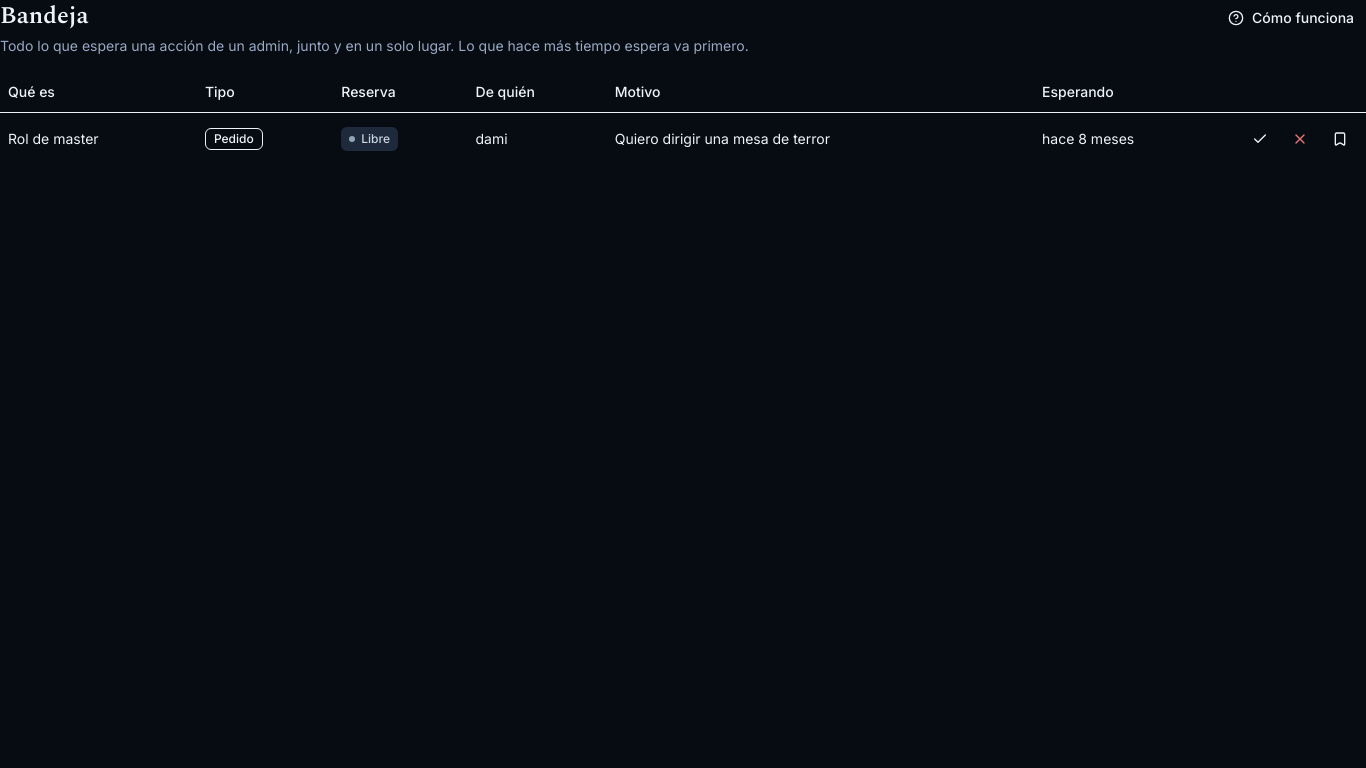
AdminQueuePage › explains the reservation from the screen itself
Click the button "Cómo funciona" at (1291, 18), box [1216,0,1365,36]
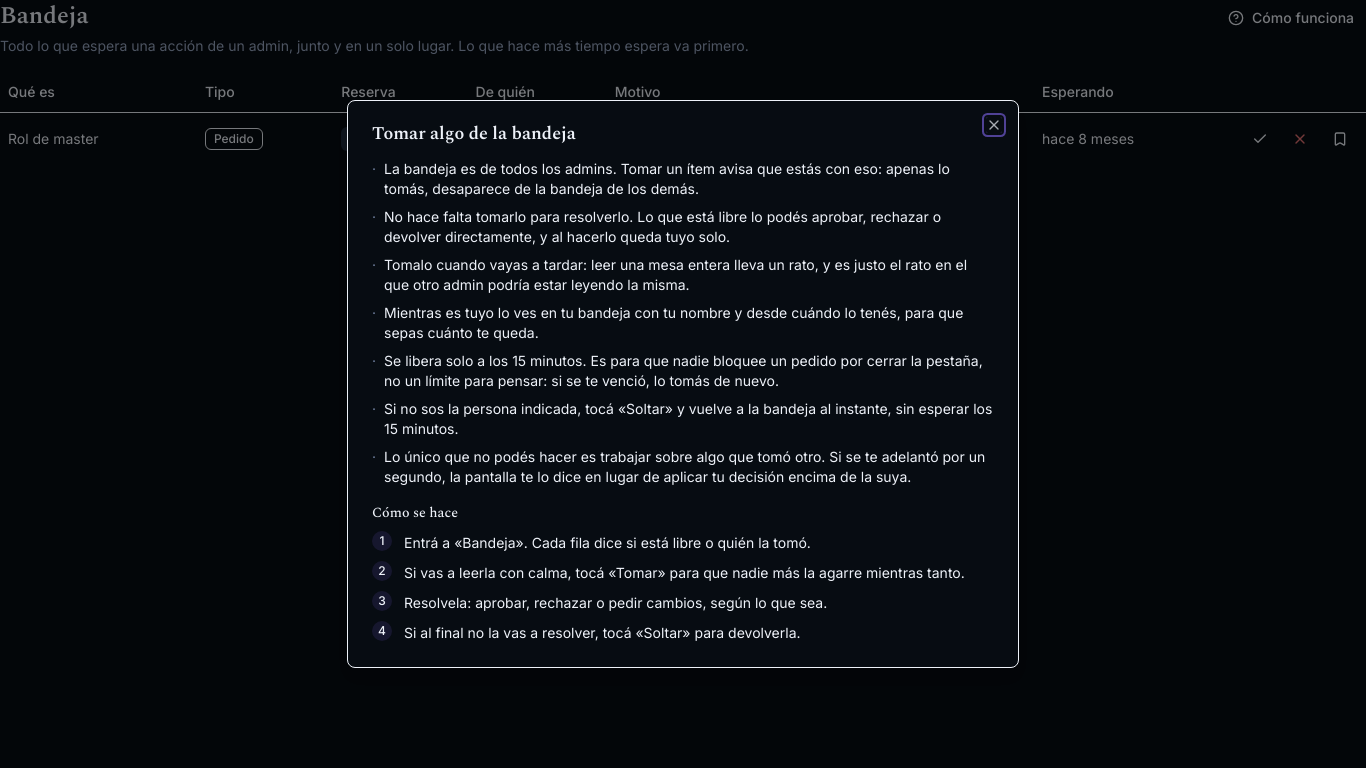
Expected: the text "Se libera solo a los 15 minutos" is shown, [384,352,983,389]
